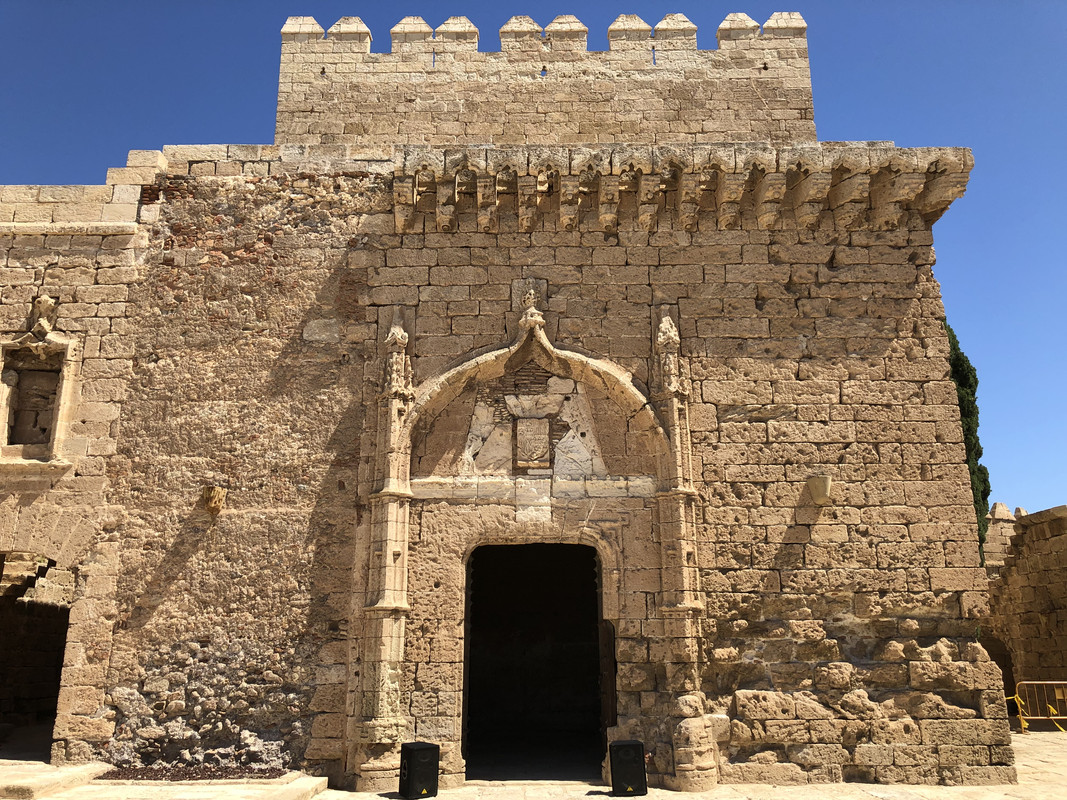arco-conopial: (404, 312, 664, 414)
